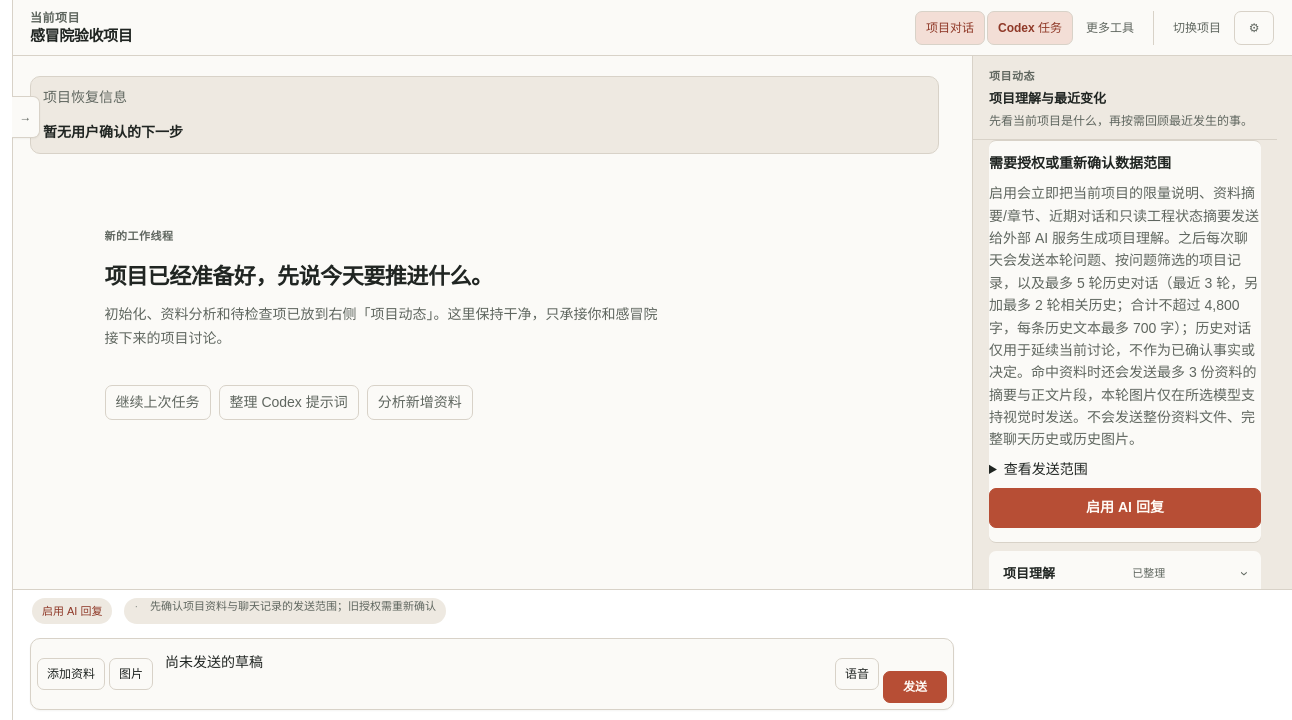
Test: project workspace persistence flow › restores a draft and persists a sent message through Tauri
The image size is (1292, 720).
Expected: the text "感冒院验收项目" is shown, [30, 28, 132, 44]
Replace the text in the text box with placeholder "告诉感冒院你现在要做什么……" with "今天检查事务导入" at [494, 674], box [157, 645, 831, 703]
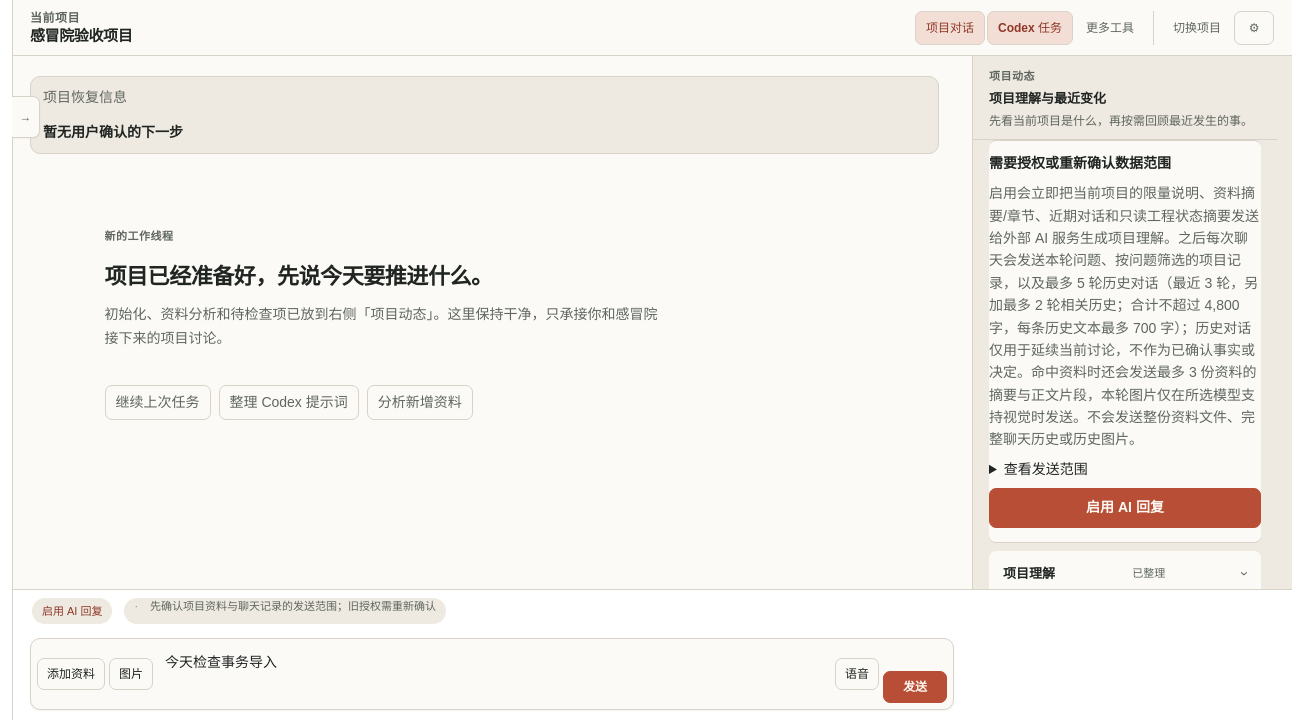
Click the button "发送".
click(915, 687)  # box [883, 671, 947, 703]
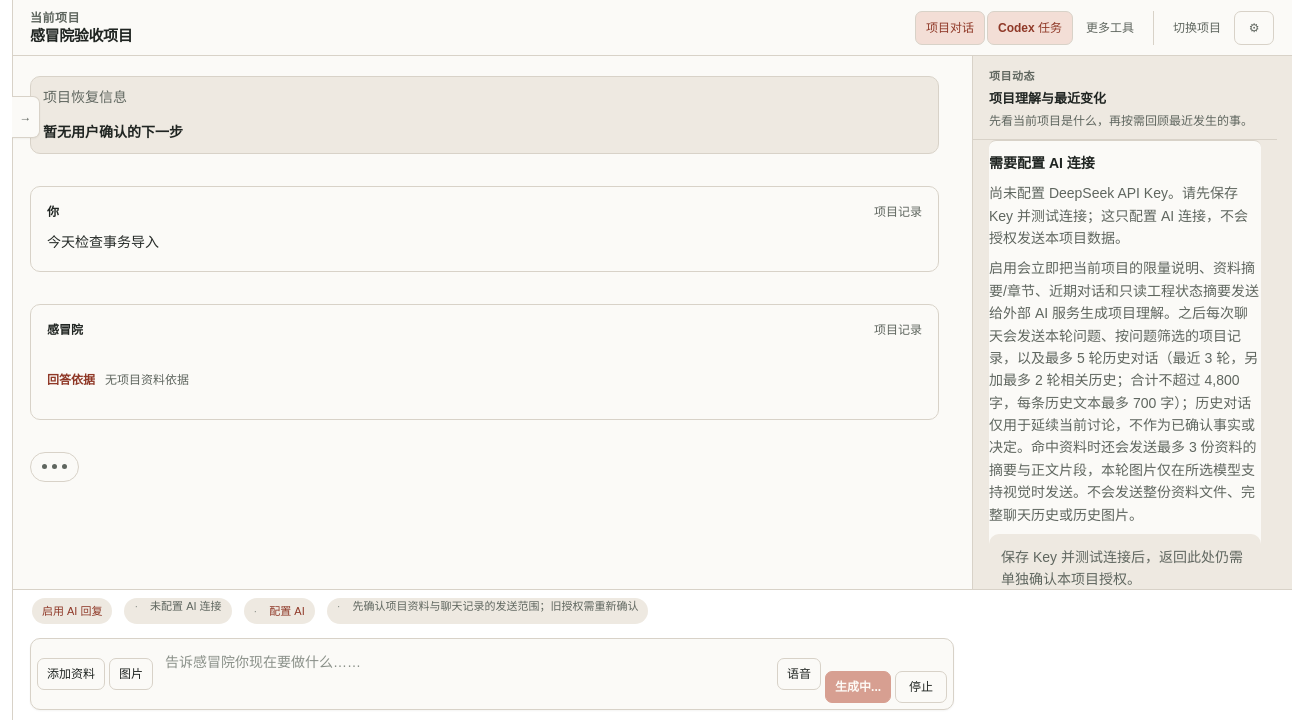
Expected: the text box "今天检查事务导入" is shown, [157, 645, 773, 703]
Result: the message named "感冒院正在回复" is shown at [30, 452, 79, 482]
Result: the 1st text "项目记录" is shown at [874, 203, 922, 221]
